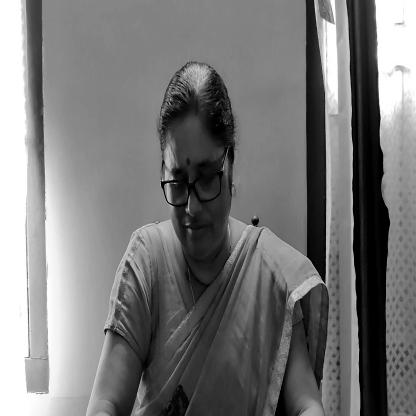Normal: (155, 66, 237, 261)
